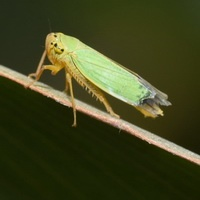insect: (29, 32, 170, 126)
